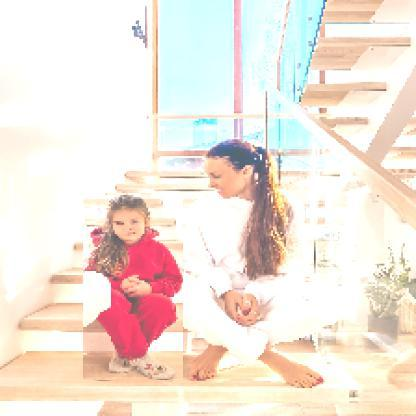child: (84, 194, 185, 382)
